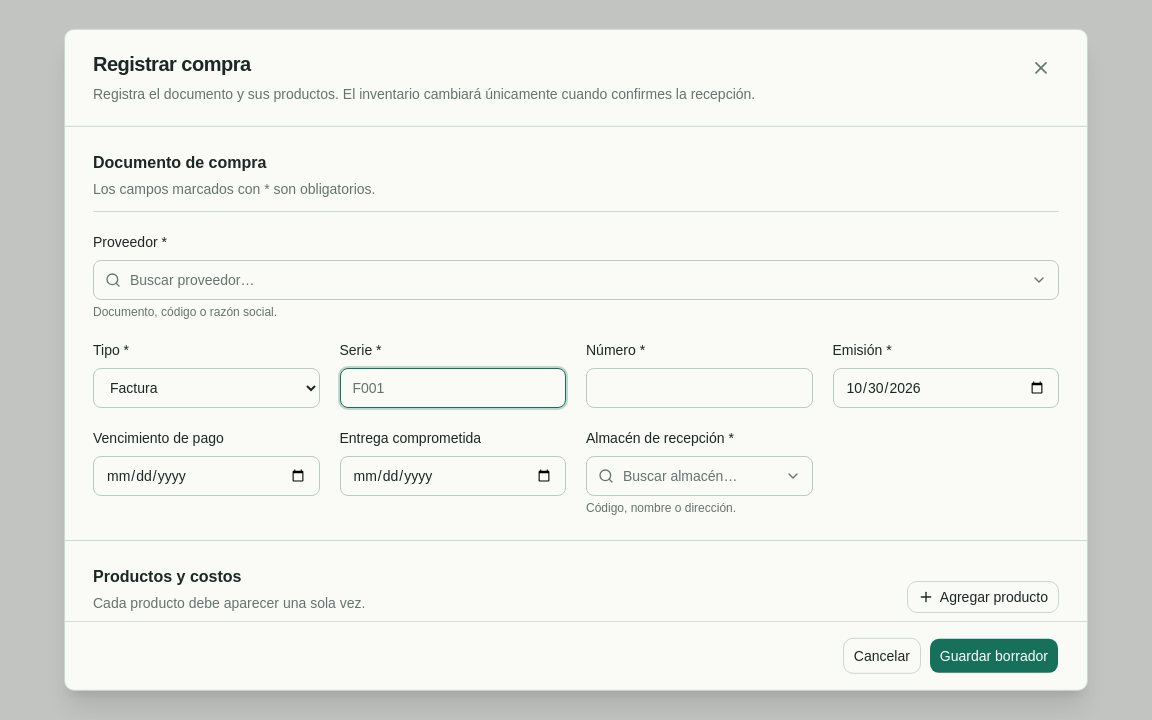
Test: DialogoCompra › marca los campos de selección requeridos al guardar el borrador inicial
Click the button "Guardar borrador". click: (994, 656)
box: [929,638,1059,674]
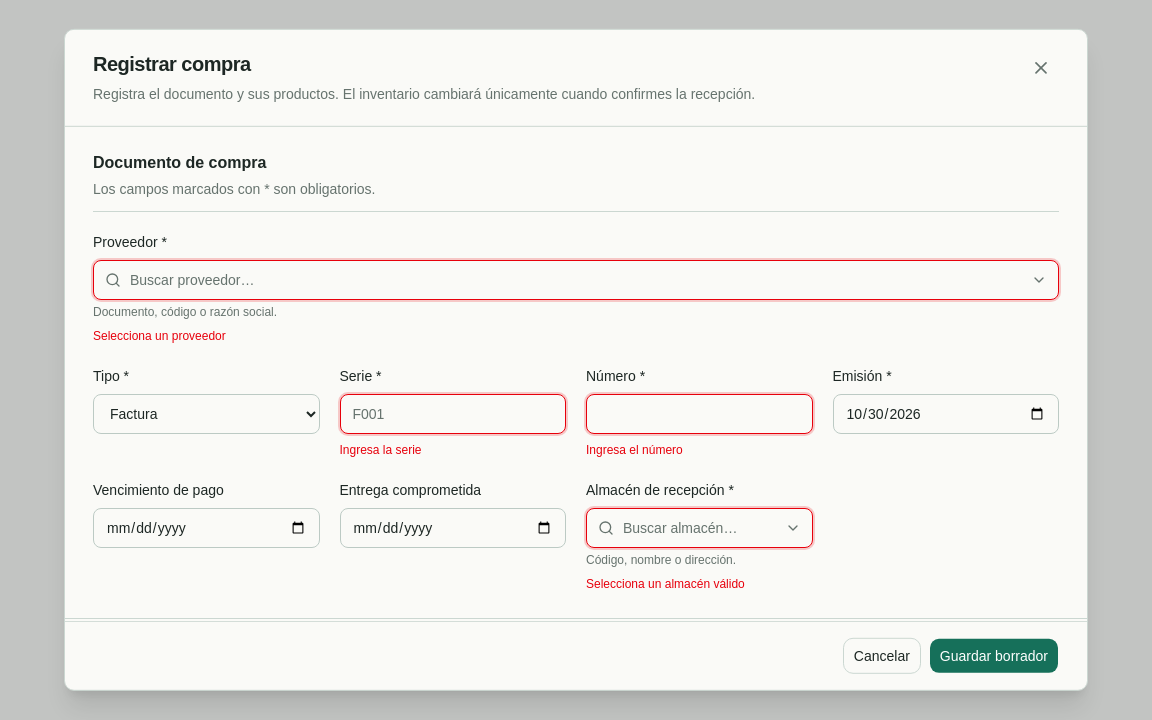
Now the text "Selecciona un proveedor" is shown, box [93,329,226,343]
Now the text "Selecciona un almacén válido" is shown, box [586,577,745,591]
